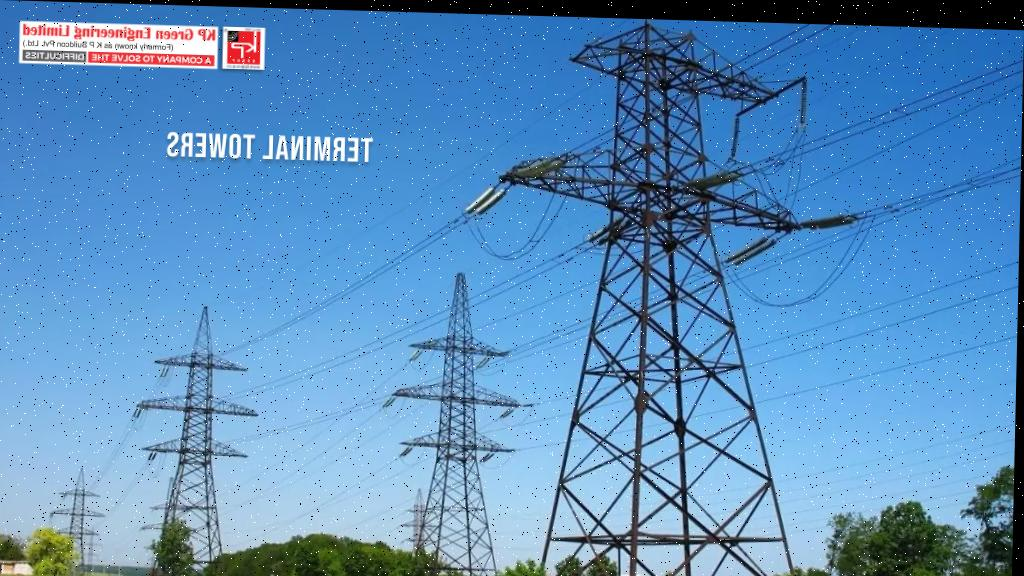tower: (520, 16, 812, 576), (377, 265, 518, 576), (134, 299, 265, 576), (47, 462, 106, 576)
